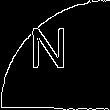N_S: (34, 29, 76, 81)
